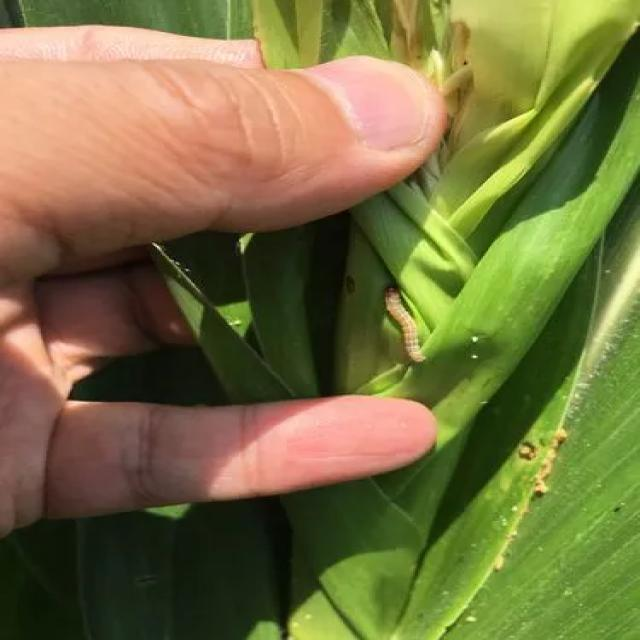pest: (377, 284, 431, 369)
